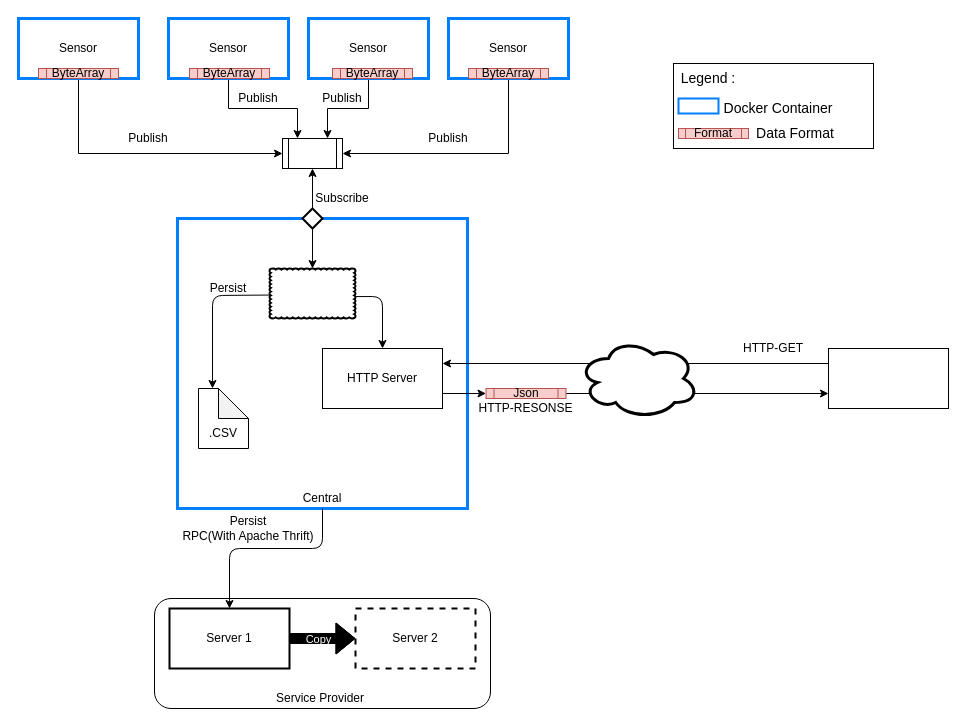
Some shapes in this 966 by 726 pixel diagram are drawn without their labels. Here are the shapes that lost their labels. From the top down, the centre of each, then its label:
At [312,153]: "MQTT Broker".
At [312,293]: "Interpret And Serialize (Json)".
At [638,378]: "REST API".
At [888,378]: "Client".
